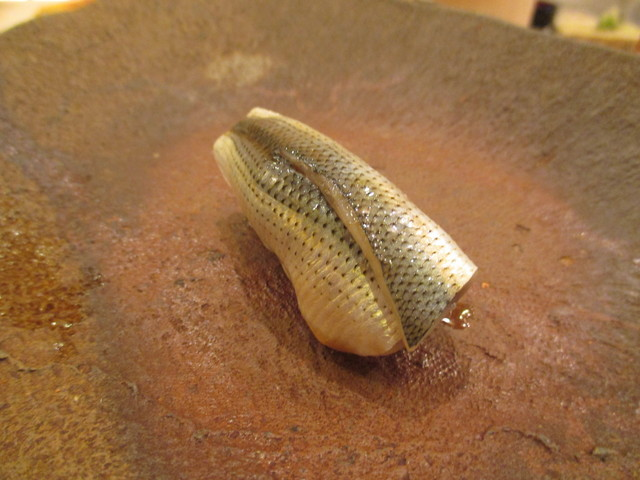spotted-shad: (210, 103, 483, 369)
